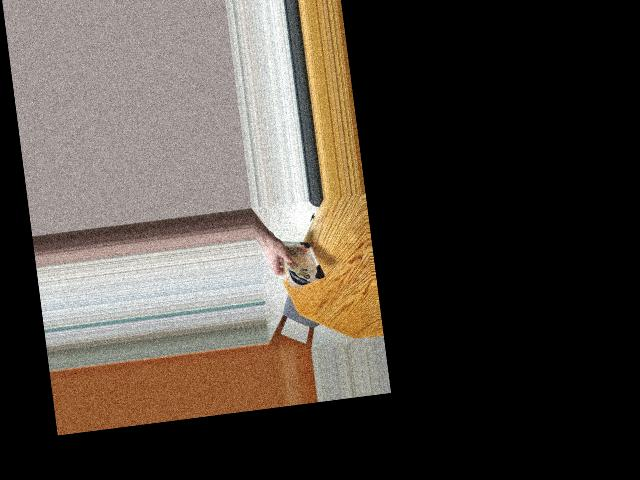cheese: (280, 235, 321, 290)
